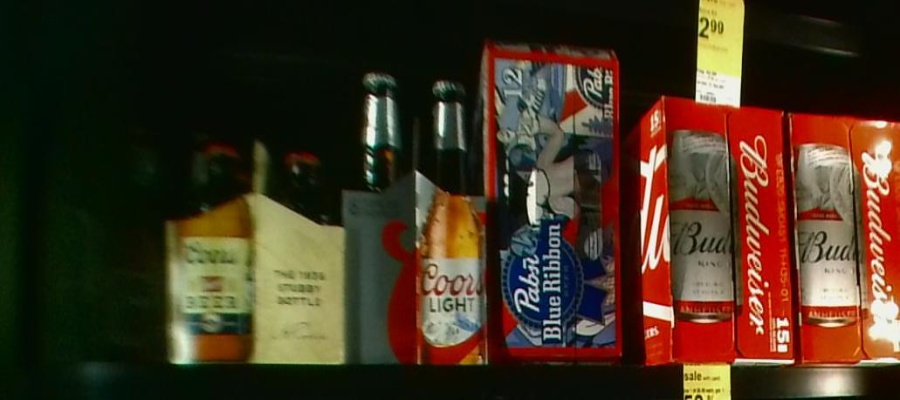bottle: (631, 98, 795, 375), (484, 36, 622, 364), (344, 69, 488, 363), (162, 131, 344, 363), (38, 98, 163, 357), (794, 106, 900, 370)
